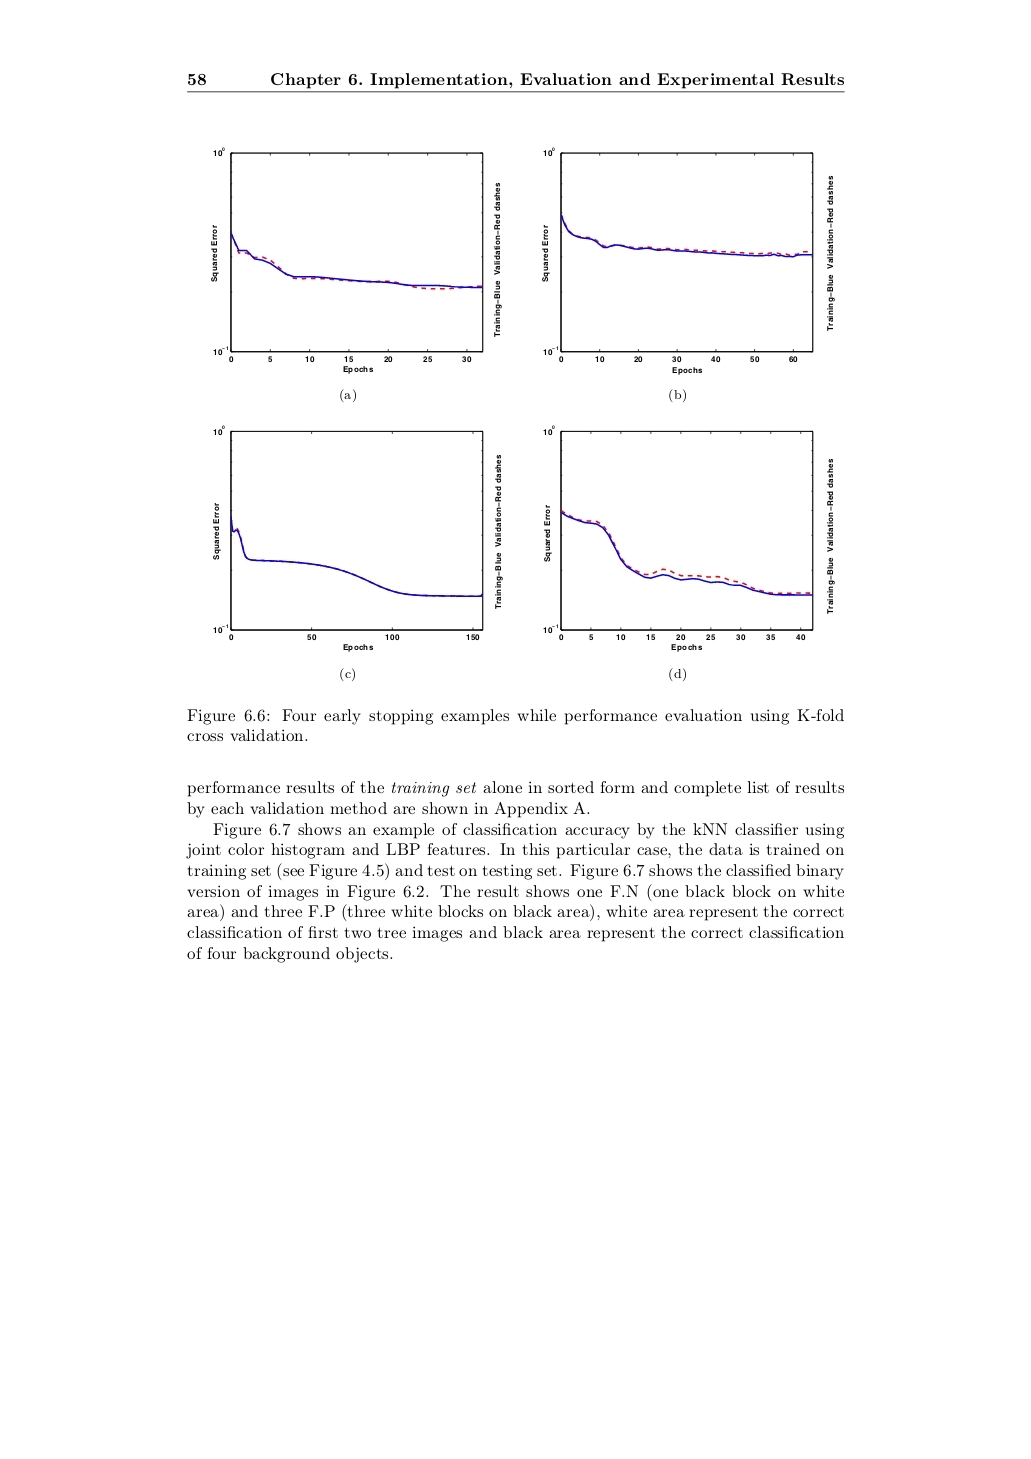figure: (542, 147, 834, 374), (543, 425, 834, 651), (213, 425, 502, 651), (211, 147, 501, 373)
